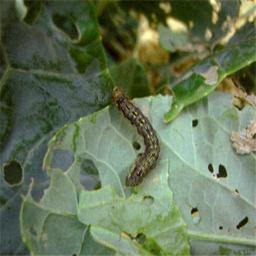Tobacco_budworm: (111, 86, 160, 188)
